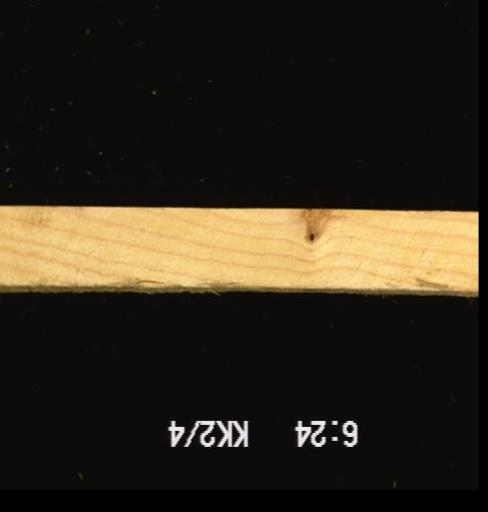small_knot: (305, 229, 315, 242)
split: (133, 275, 167, 286)
